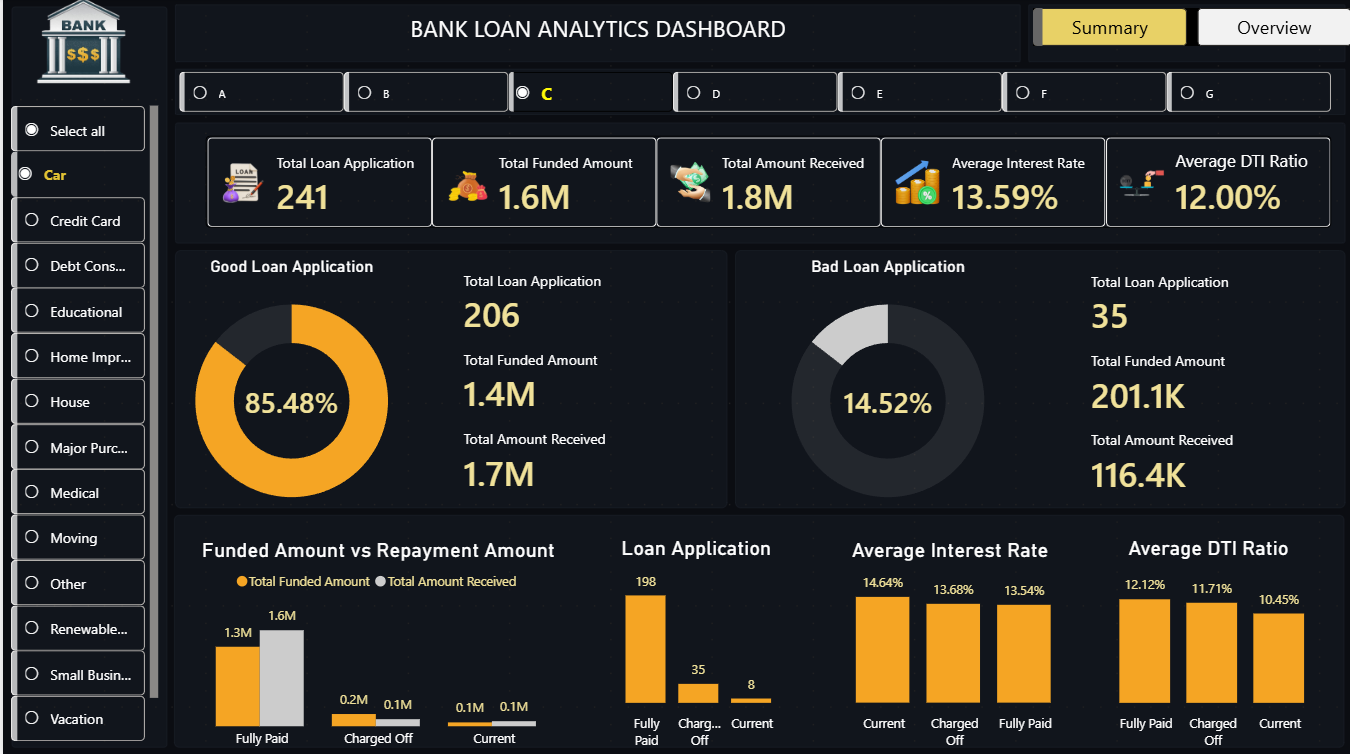

What the dashboard file says about the page in this screenshot:
{"tool":"powerbi","page":{"name":"Summary","canvas":[1280,720],"ordinal":0},"visuals":[{"type":"cardVisual","fields":{"Data":["financial_loan.Total Loan Application","financial_loan.Total Funded Amount","financial_loan.Total Amount Received","financial_loan.Average Interest Rate","financial_loan.Average DTI Ratio"]},"box":[175.3,114.1,1104.7,121],"z":0},{"type":"donutChart","title":"Good Loan Application","fields":{"Y":["financial_loan.Total Loan Application"],"Category":["financial_loan.good_vs_bad"]},"box":[44.5,244.9,457.7,256],"z":1000},{"type":"cardVisual","fields":{"Data":["financial_loan.Good Loan %"]},"box":[200.3,347.8,160,68.2],"z":2000},{"type":"cardVisual","fields":{"Data":["financial_loan.Bad Loan %"]},"box":[768,347.8,160,68.2],"z":3000},{"type":"donutChart","title":"Bad Loan Application","fields":{"Y":["financial_loan.Total Loan Application"],"Category":["financial_loan.good_vs_bad"]},"box":[610.8,244.9,457.7,256],"z":4000},{"type":"cardVisual","fields":{"Data":["financial_loan.Total Loan Application","financial_loan.Total Funded Amount","financial_loan.Total Amount Received"],"Rows":["financial_loan.good_vs_bad"]},"box":[407.7,185,232.3,327],"z":5000},{"type":"cardVisual","fields":{"Data":["financial_loan.Total Loan Application","financial_loan.Total Funded Amount","financial_loan.Total Amount Received"],"Rows":["financial_loan.good_vs_bad"]},"box":[1003.1,186.4,232.3,327],"z":6000},{"type":"clusteredColumnChart","title":"Funded Amount vs Repayment Amount","fields":{"Category":["financial_loan.LOAN_STATUS"],"Y":["financial_loan.Total Funded Amount","financial_loan.Total Amount Received"]},"box":[153,512,406.3,208.7],"z":7000},{"type":"clusteredColumnChart","title":"Loan Application","fields":{"Category":["financial_loan.LOAN_STATUS"],"Y":["financial_loan.Total Loan Application"]},"box":[559.3,510.6,196.2,208.7],"z":8000},{"type":"clusteredColumnChart","title":"Average Interest Rate","fields":{"Category":["financial_loan.LOAN_STATUS"],"Y":["financial_loan.Average Interest Rate"]},"box":[768,512,260.2,207.3],"z":9000},{"type":"clusteredColumnChart","title":"Average DTI Ratio","fields":{"Category":["financial_loan.LOAN_STATUS"],"Y":["financial_loan.Average DTI Ratio"]},"box":[1019.8,510.6,247.7,208.7],"z":10000},{"type":"image","box":[0,0,153,80.7],"z":11000},{"type":"shape","box":[162.8,0,804.2,55.7],"z":12000},{"type":"advancedSlicerVisual","fields":{"Values":["financial_loan.PURPOSE"]},"box":[2.8,96.7,150.3,623.3],"z":13000},{"type":"advancedSlicerVisual","fields":{"Values":["financial_loan.GRADE"]},"box":[162.8,65.4,1104.7,48.7],"z":14000},{"type":"pageNavigator","box":[976.7,9.7,303.3,36.2],"z":15000}]}

Visuals, with their boxes in screenshot pixels (x1, y1, x2, y2), scaled from the page's 1280x720 canvas onto the 1350x754 screenshot:
cardVisual - financial_loan.Total Loan Application x financial_loan.Total Funded Amount: 185 119 1349 246
"Good Loan Application" donutChart: 47 256 530 525
cardVisual - financial_loan.Good Loan %: 211 364 380 436
cardVisual - financial_loan.Bad Loan %: 810 364 979 436
"Bad Loan Application" donutChart: 644 256 1127 525
cardVisual - financial_loan.Total Loan Application x financial_loan.Total Funded Amount: 430 194 675 536
cardVisual - financial_loan.Total Loan Application x financial_loan.Total Funded Amount: 1058 195 1303 538
"Funded Amount vs Repayment Amount" clusteredColumnChart: 161 536 590 753
"Loan Application" clusteredColumnChart: 590 535 797 753
"Average Interest Rate" clusteredColumnChart: 810 536 1084 753
"Average DTI Ratio" clusteredColumnChart: 1076 535 1337 753
image: 0 0 161 85
shape: 172 0 1020 58
advancedSlicerVisual - financial_loan.PURPOSE: 3 101 161 753
advancedSlicerVisual - financial_loan.GRADE: 172 68 1337 119
pageNavigator: 1030 10 1349 48
